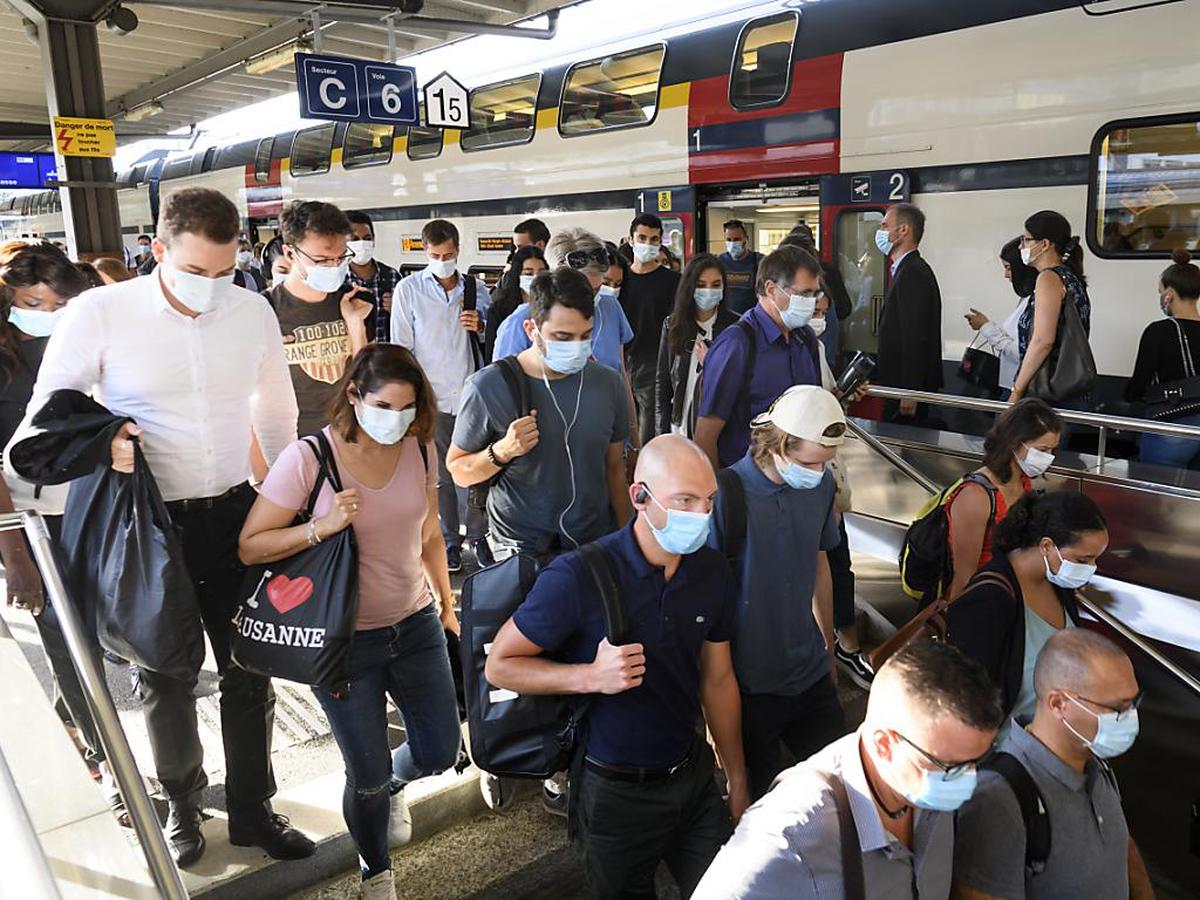with_incorrect_mask: (1010, 216, 1062, 277)
with_mask: (840, 667, 987, 820), (145, 220, 240, 317), (1076, 638, 1138, 780), (337, 358, 428, 447), (643, 465, 723, 566), (760, 396, 838, 498), (281, 213, 357, 300), (764, 259, 827, 340), (16, 257, 73, 342), (1046, 509, 1100, 598), (527, 311, 597, 378), (1005, 411, 1066, 487), (624, 209, 662, 266), (419, 235, 466, 281), (683, 264, 728, 310)
